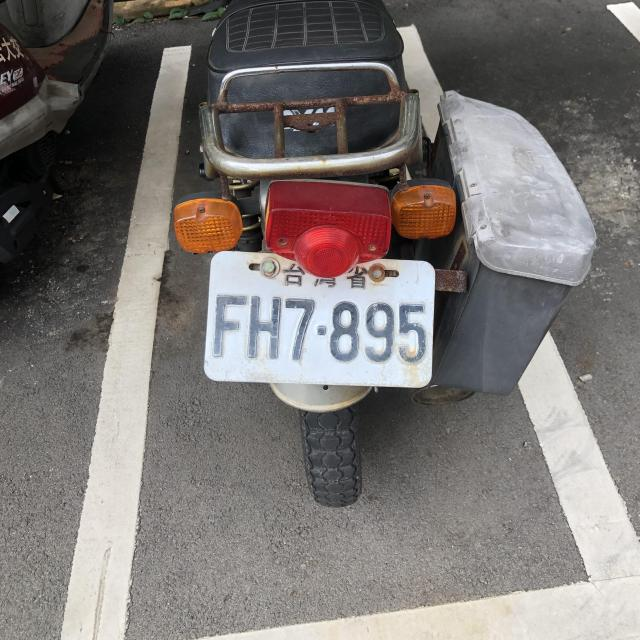W: (201, 248, 437, 387)
